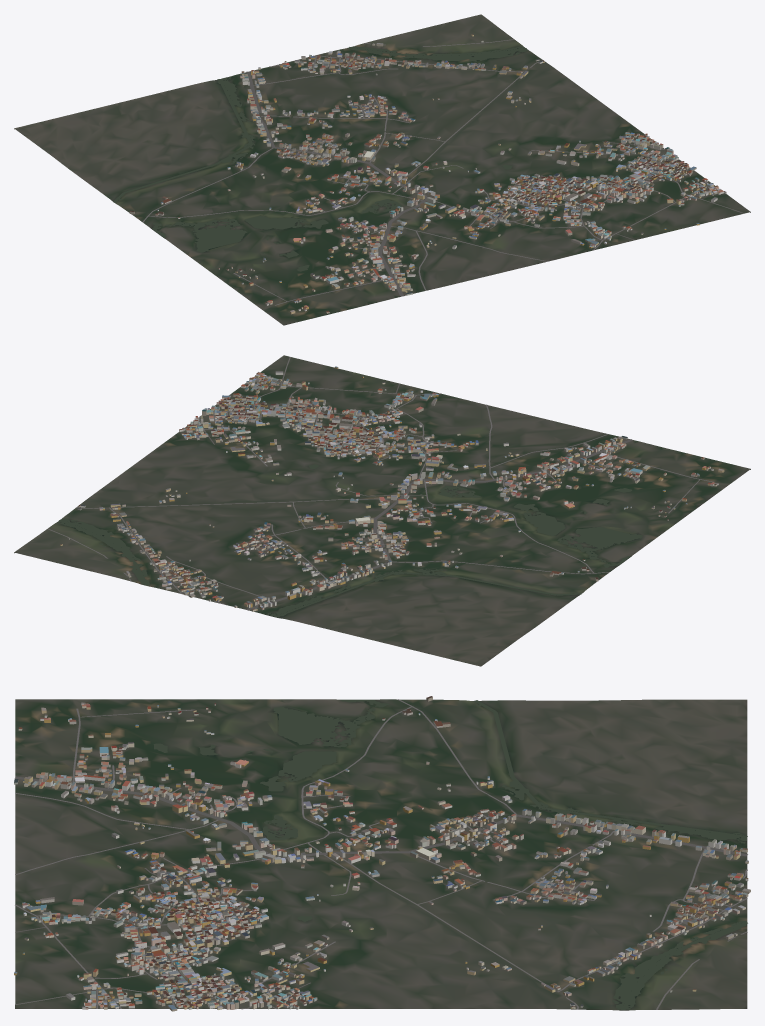
3 views of the same model, one above another, from view 1: azimuth 30°, elevation 25°; view 2: azimuth 150°, elevation 25°; view 3: azimuth 270°, elevation 25° (orthographic). The views are drawn at different scales.
Visible parts, largest first — view 1: ground, buildings, water, roads; view 2: ground, buildings, water, roads; view 3: ground, buildings, water, roads.
Part boxes in pixels (<box>): ground: <box>14,14,750,325</box>; buildings: <box>129,34,726,314</box>; water: <box>113,46,528,271</box>; roads: <box>142,39,744,305</box>; ground: <box>14,355,750,666</box>; buildings: <box>60,366,724,611</box>; water: <box>58,464,642,617</box>; roads: <box>47,357,713,610</box>; ground: <box>15,699,747,1010</box>; buildings: <box>14,696,750,1011</box>; water: <box>153,699,747,1010</box>; roads: <box>14,699,747,1009</box>.
Size of the model in its own units: 1415 by 20.22 by 1411.
